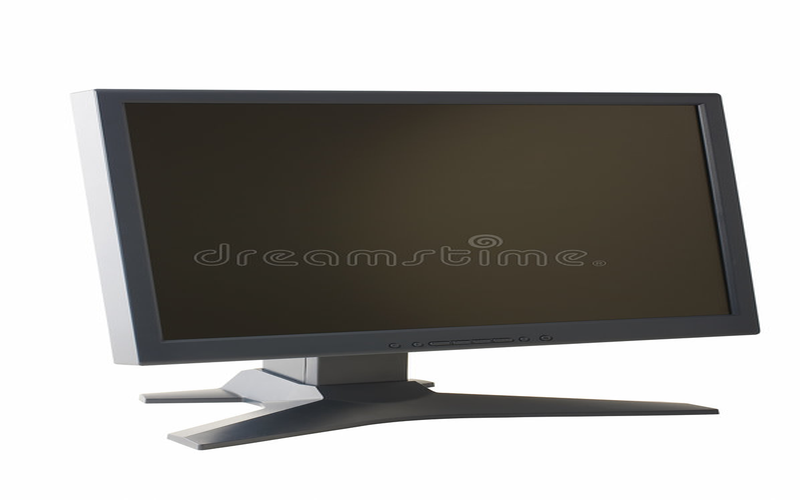LCD: (40, 56, 767, 394)
